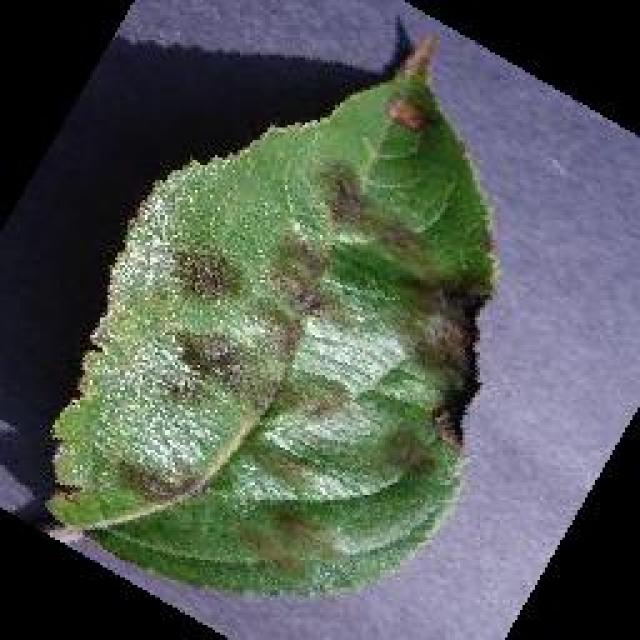apple scab disease: (40, 12, 500, 600)
